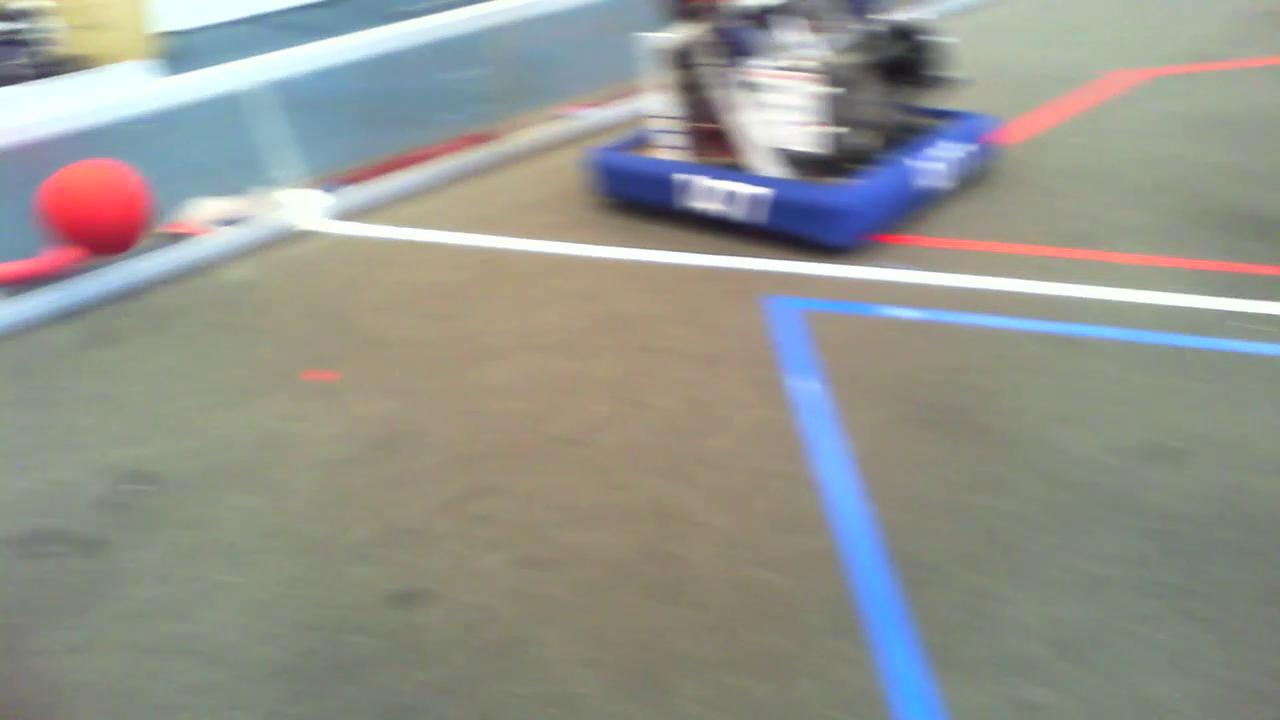Red_Ball: (27, 149, 161, 261)
